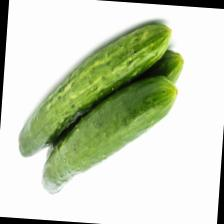cucumber: (16, 13, 172, 166), (39, 66, 178, 203)
